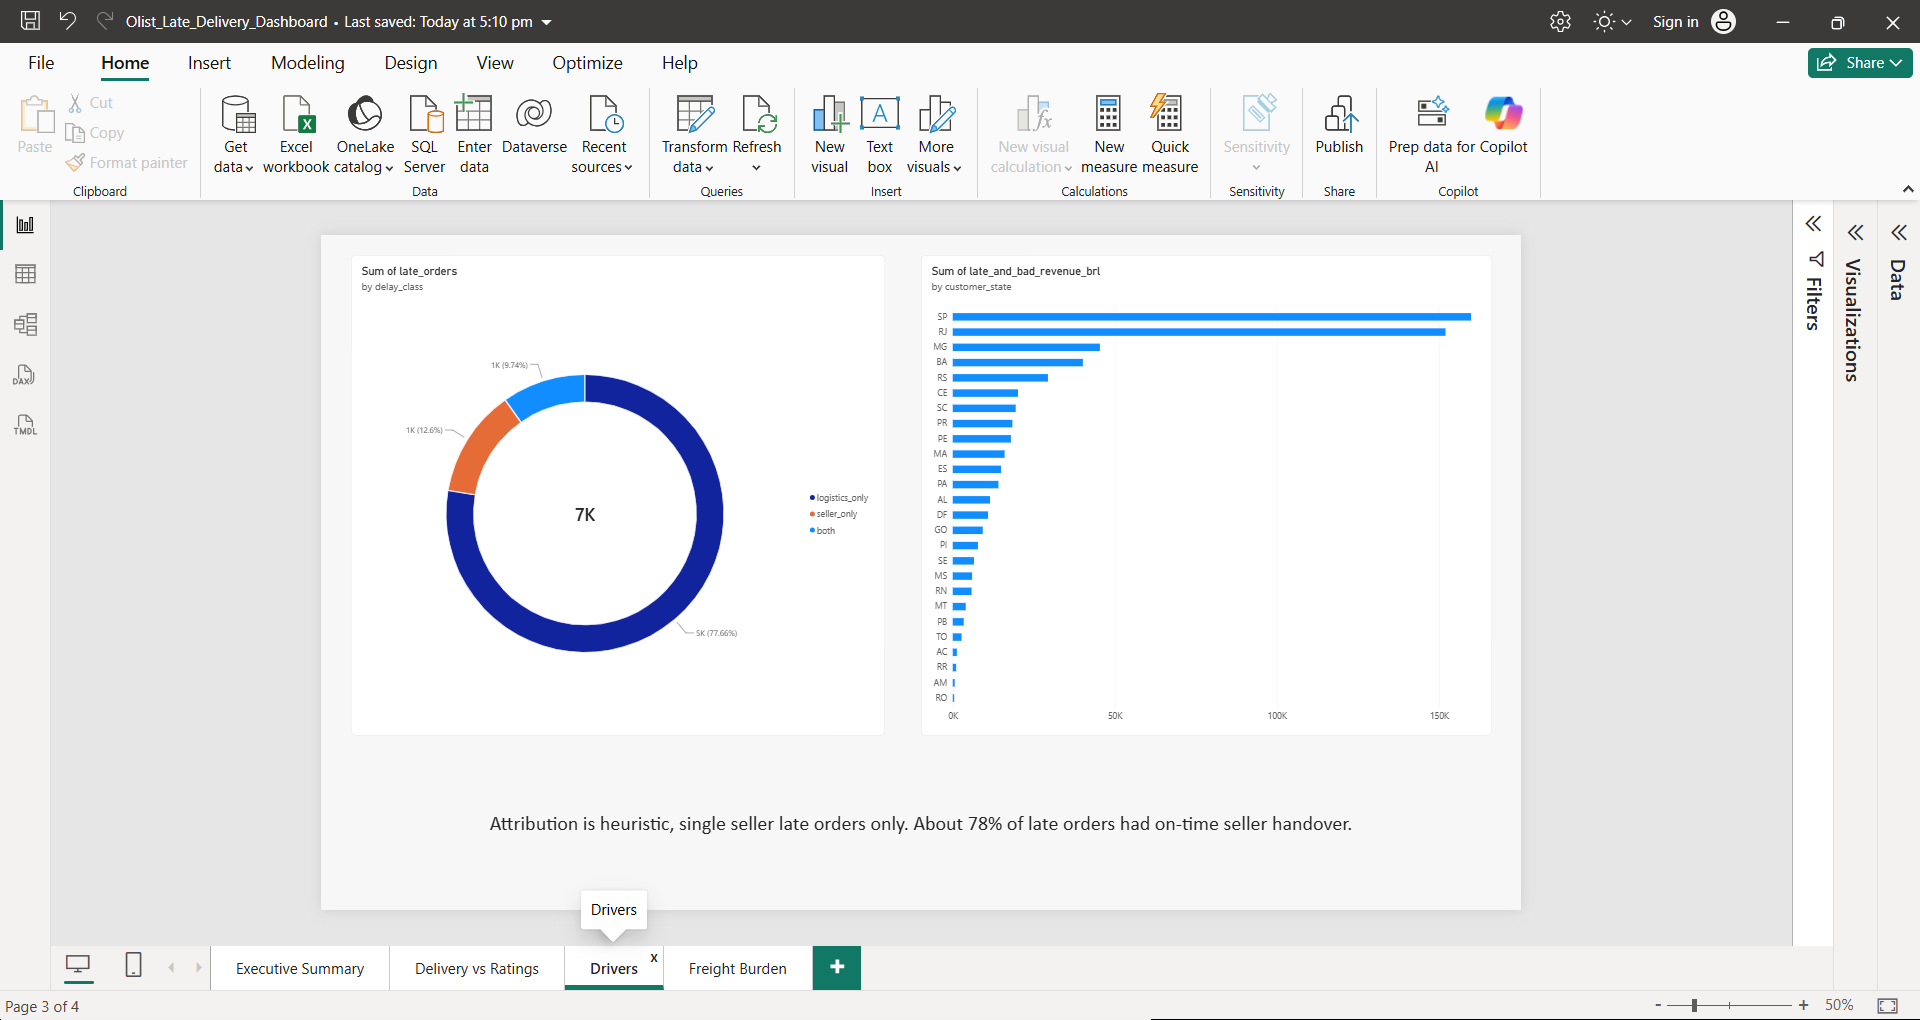

Layout of this report page (visuals, bound fields, positions):
{"tool":"powerbi","page":{"name":"Drivers","canvas":[1920,1080],"ordinal":2},"visuals":[{"type":"donutChart","fields":{"Category":["08_attribution.delay_class"],"Y":["Sum(08_attribution.late_orders)"]},"box":[48.9,32.6,854.2,769.1],"z":0},{"type":"clusteredBarChart","fields":{"Category":["06_by_state.customer_state"],"Y":["Sum(06_by_state.late_and_bad_revenue_brl)"]},"box":[959.1,32.6,913.9,769.1],"z":1},{"type":"textbox","box":[48.9,921.1,1824.1,74.2],"z":2}]}

Visuals, with their boxes on the page's 1920x1080 design canvas (x1, y1, x2, y2). These are canvas units, not pixel positions in the 1920x1020 screenshot, which may show the page scaled, cropped or inside an application window:
donutChart - 08_attribution.delay_class x Sum(08_attribution.late_orders): left=49, top=33, right=903, bottom=802
clusteredBarChart - 06_by_state.customer_state x Sum(06_by_state.late_and_bad_revenue_brl): left=959, top=33, right=1873, bottom=802
textbox: left=49, top=921, right=1873, bottom=995
